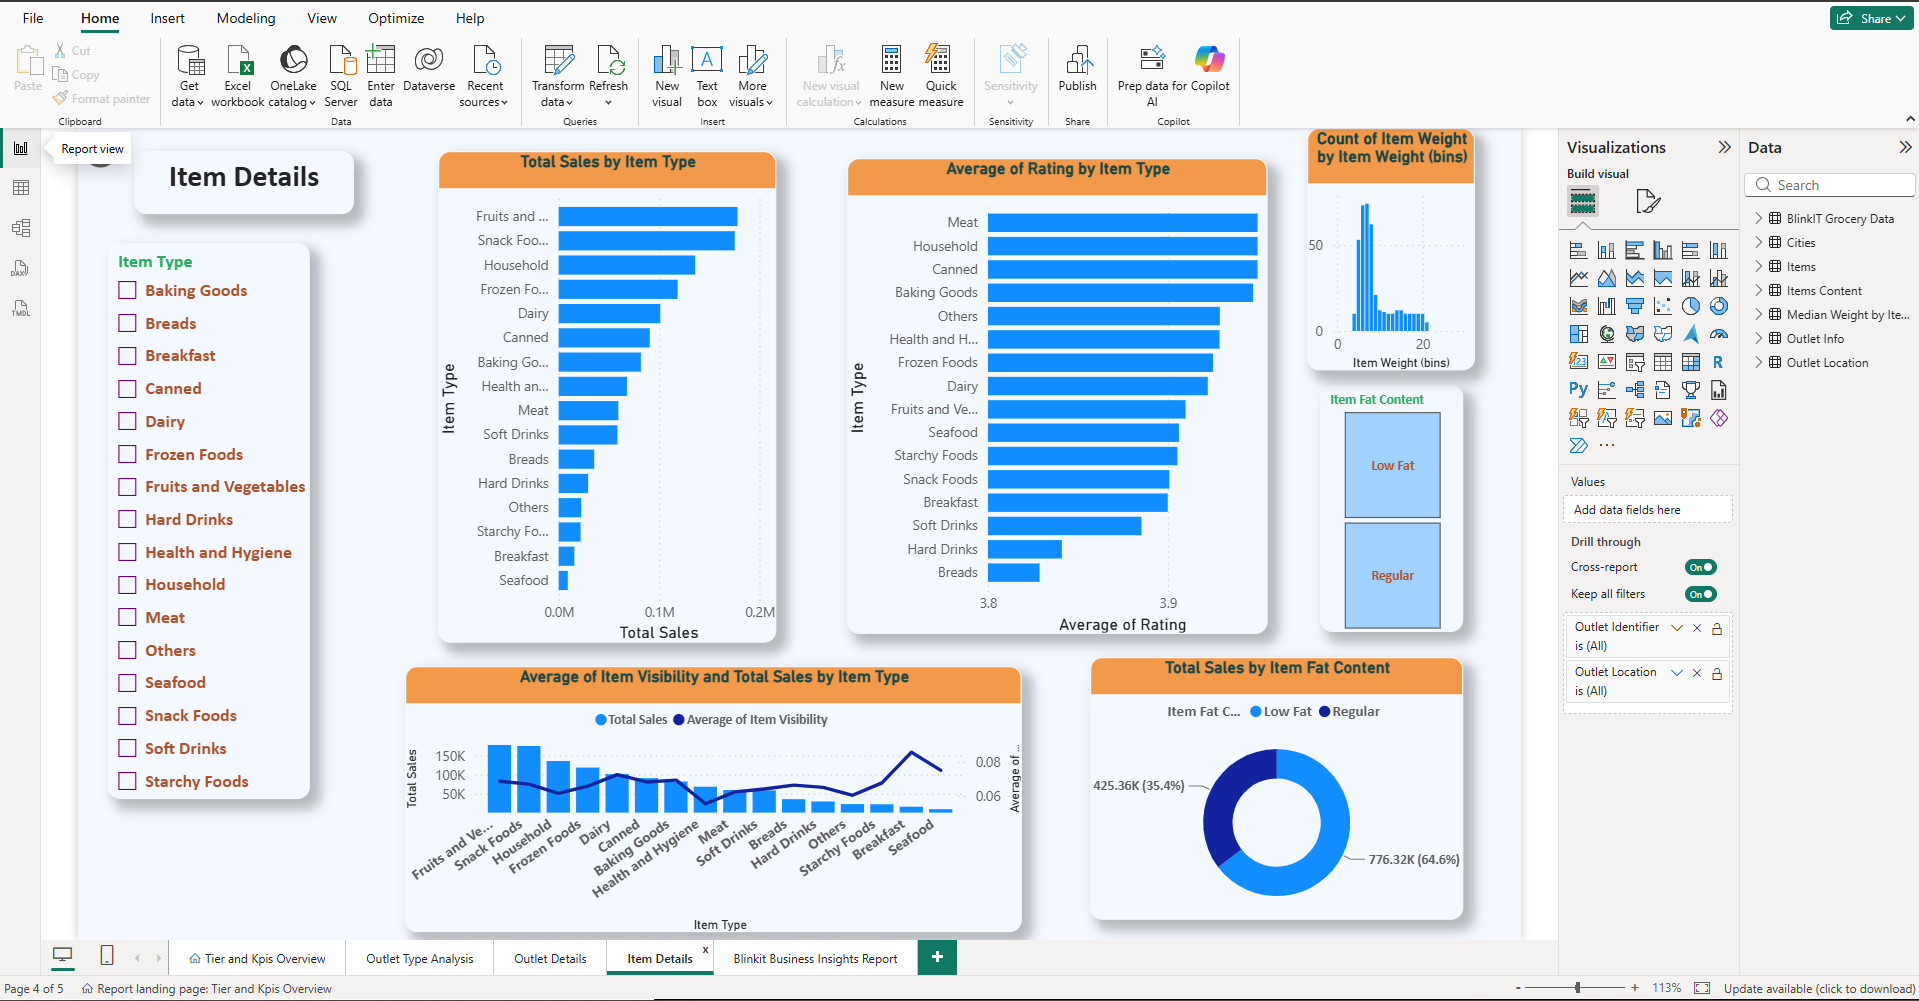

The page's visual inventory and layout, read from the dashboard file:
{"tool":"powerbi","page":{"name":"Item Details","canvas":[1280,720],"ordinal":3},"visuals":[{"type":"actionButton","box":[0,0,100,40],"z":0},{"type":"textbox","box":[50,20,195.4,56.2],"z":1000},{"type":"slicer","fields":{"Values":["Items.Item Type"]},"box":[27,102,178.9,493.3],"z":2000},{"type":"slicer","fields":{"Values":["Items Content.Item Fat Content"]},"box":[1101,228,127,219],"z":3000},{"type":"donutChart","fields":{"Category":["Items Content.Item Fat Content"],"Y":["BlinkIT Grocery Data.Total Sales"]},"box":[897,469,331,233],"z":4000},{"type":"clusteredBarChart","fields":{"Category":["Items.Item Type"],"Y":["Avg(BlinkIT Grocery Data.Rating)"]},"box":[681.5,26.9,373.1,422.3],"z":6000},{"type":"lineStackedColumnComboChart","title":"Average of Item Visibility and Total Sales  by Item Type","fields":{"Category":["Items.Item Type"],"Y2":["Avg(BlinkIT Grocery Data.Item Visibility)"],"Y":["BlinkIT Grocery Data.Total Sales"]},"box":[290,477,547,236],"z":7000},{"type":"clusteredColumnChart","fields":{"Y":["Count(BlinkIT Grocery Data.Item Weight)"],"Category":["BlinkIT Grocery Data.Item Weight (bins)"]},"box":[1090,0,149,215],"z":8000},{"type":"barChart","fields":{"Y":["BlinkIT Grocery Data.Total Sales"],"Category":["Items.Item Type"]},"box":[319.2,20,300,436.2],"z":8001}]}

Visuals, with their boxes on the page's 1280x720 design canvas (x1, y1, x2, y2). These are canvas units, not pixel positions in the 1919x1001 screenshot, which may show the page scaled, cropped or inside an application window:
actionButton: [x1=0, y1=0, x2=100, y2=40]
textbox: [x1=50, y1=20, x2=245, y2=76]
slicer - Items.Item Type: [x1=27, y1=102, x2=206, y2=595]
slicer - Items Content.Item Fat Content: [x1=1101, y1=228, x2=1228, y2=447]
donutChart - Items Content.Item Fat Content x BlinkIT Grocery Data.Total Sales: [x1=897, y1=469, x2=1228, y2=702]
clusteredBarChart - Items.Item Type x Avg(BlinkIT Grocery Data.Rating): [x1=682, y1=27, x2=1055, y2=449]
"Average of Item Visibility and Total Sales  by Item Type" lineStackedColumnComboChart: [x1=290, y1=477, x2=837, y2=713]
clusteredColumnChart - Count(BlinkIT Grocery Data.Item Weight) x BlinkIT Grocery Data.Item Weight (bins): [x1=1090, y1=0, x2=1239, y2=215]
barChart - BlinkIT Grocery Data.Total Sales x Items.Item Type: [x1=319, y1=20, x2=619, y2=456]
